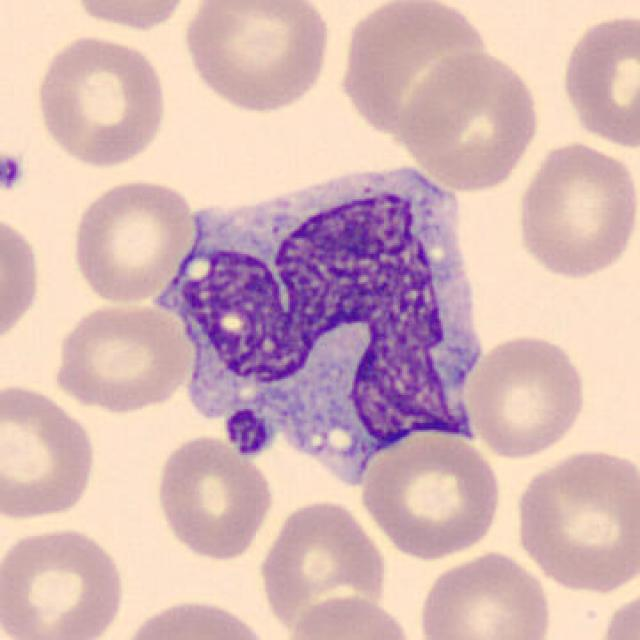Monocyte: (142, 152, 494, 478)
Platelets: (220, 404, 278, 458), (0, 150, 27, 196)
RBC: (334, 0, 491, 143), (398, 46, 544, 194), (357, 425, 505, 562), (508, 444, 638, 596), (30, 30, 171, 169), (254, 496, 391, 636), (510, 138, 638, 282), (180, 0, 334, 115), (68, 175, 199, 306), (460, 330, 590, 462), (50, 298, 196, 414), (151, 432, 276, 562), (0, 522, 130, 640), (0, 379, 100, 524), (414, 548, 556, 640), (556, 8, 640, 152), (115, 594, 274, 640), (277, 590, 415, 640), (0, 206, 44, 352), (65, 0, 197, 33), (595, 583, 638, 640)
